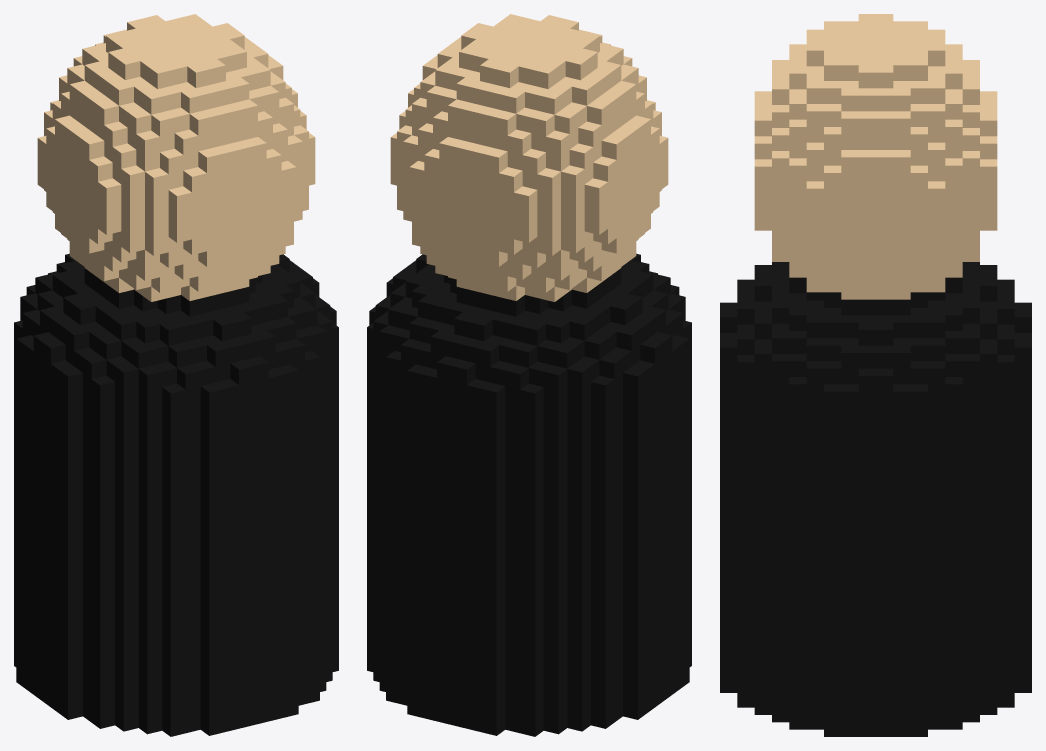
File: Person_7.fbx
3 renders of one model, left to right at view 1: azimuth 30°, elevation 25°; view 2: azimuth 150°, elevation 25°; view 3: azimuth 270°, elevation 25°, orthographic.
Parts seen in each view (by area): view 1: Person_7; view 2: Person_7; view 3: Person_7.
Boxes of the visible parts, x1,y1,x2,y2 form: Person_7: (14,14,338,736); Person_7: (367,14,691,736); Person_7: (720,14,1031,736).
Bounding box in the file's own units: 18 × 40 × 18.
1 material, 1 textured.
